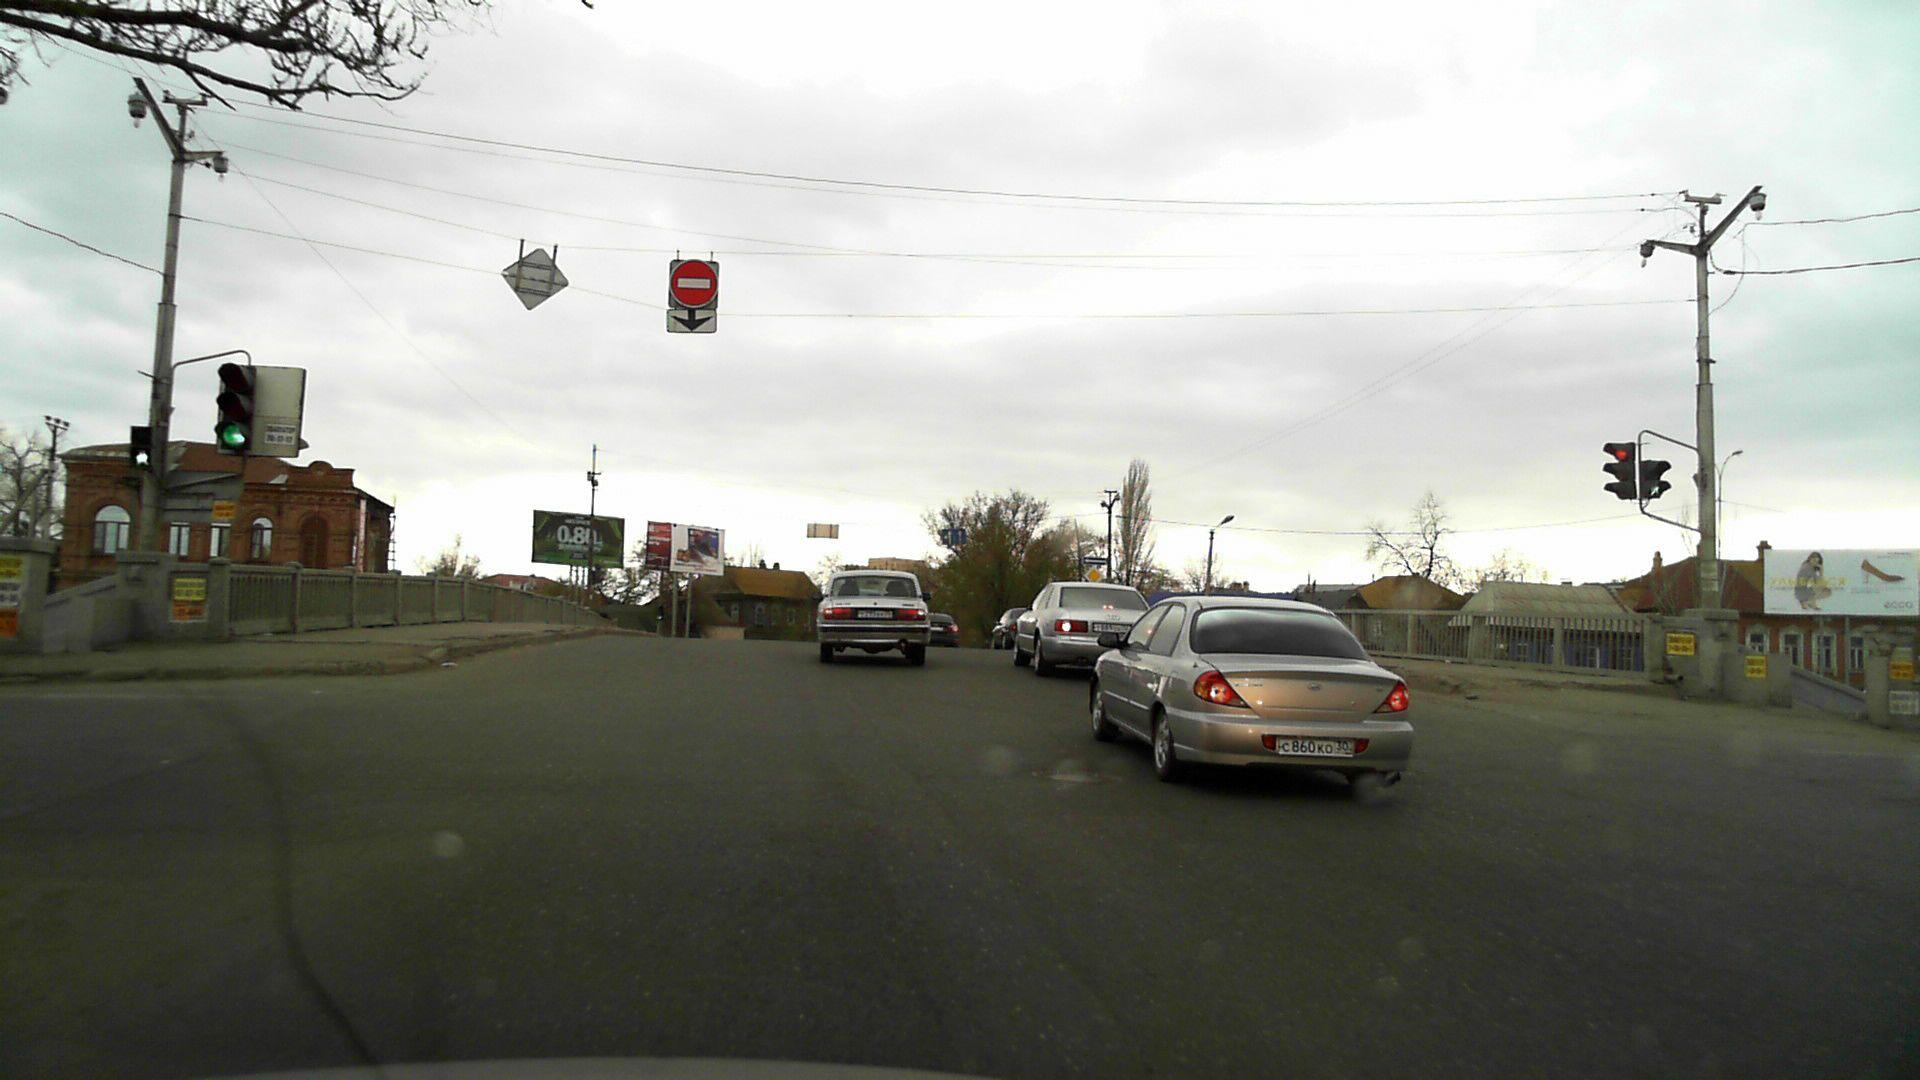2_1: (1084, 566, 1102, 583)
3_1: (670, 253, 717, 306)
5_15_1: (940, 527, 969, 546)
5_7_2: (1081, 555, 1108, 566)
8_14: (669, 311, 717, 334)
